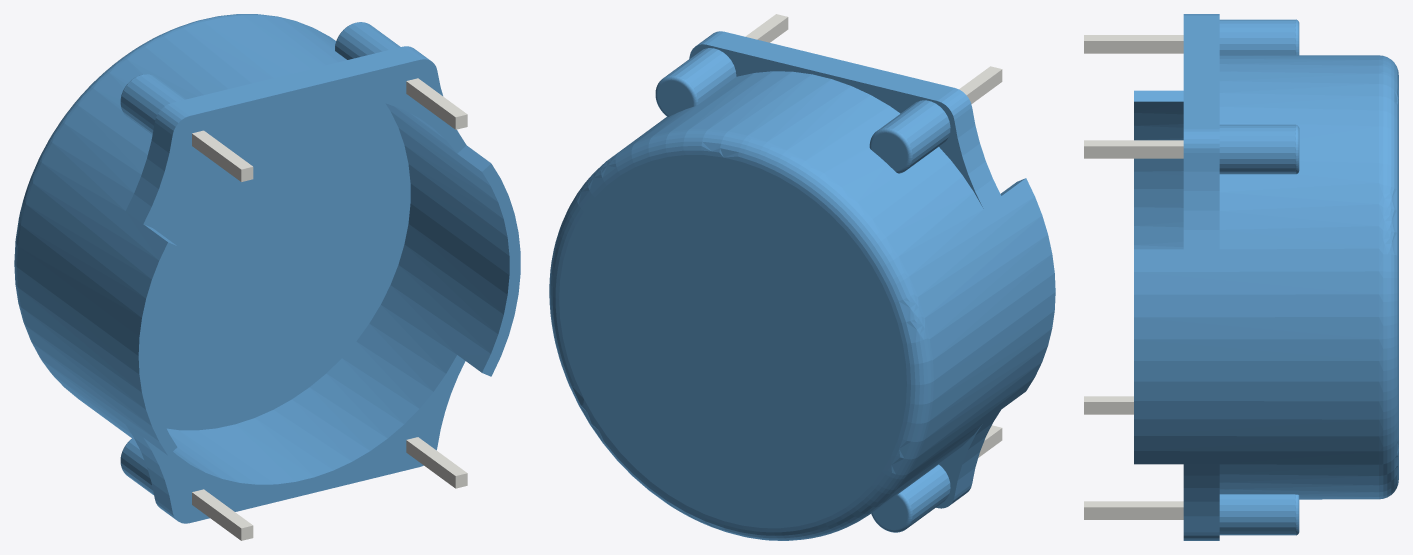
The model's file is Choke_EPCOS_B82722A.glb.
The picture shows the model from 3 angles, left to right: view 1: azimuth 30°, elevation 25°; view 2: azimuth 150°, elevation 25°; view 3: azimuth 270°, elevation 25°; orthographic projection.
Visible parts, largest first — view 1: Shape_IndexedFaceSet.036, Shape_IndexedFaceSet, Shape_IndexedFaceSet.026, Shape_IndexedFaceSet.031, Shape_IndexedFaceSet.027, Shape_IndexedFaceSet.034, Shape_IndexedFaceSet.013, Shape_IndexedFaceSet.001, Shape_IndexedFaceSet.020, Shape_IndexedFaceSet.023, Shape_IndexedFaceSet.025, Shape_IndexedFaceSet.017 (+10 smaller); view 2: Shape_IndexedFaceSet.035, Shape_IndexedFaceSet, Shape_IndexedFaceSet.025, Shape_IndexedFaceSet.034, Shape_IndexedFaceSet.016, Shape_IndexedFaceSet.020, Shape_IndexedFaceSet.023, Shape_IndexedFaceSet.017, Shape_IndexedFaceSet.005, Shape_IndexedFaceSet.003, Shape_IndexedFaceSet.019, Shape_IndexedFaceSet.022 (+2 smaller); view 3: Shape_IndexedFaceSet, Shape_IndexedFaceSet.025, Shape_IndexedFaceSet.026, Shape_IndexedFaceSet.034, Shape_IndexedFaceSet.017, Shape_IndexedFaceSet.015, Shape_IndexedFaceSet.008, Shape_IndexedFaceSet.020, Shape_IndexedFaceSet.011, Shape_IndexedFaceSet.043, Shape_IndexedFaceSet.048, Shape_IndexedFaceSet.052 (+6 smaller).
Boxes of the visible parts, <box> form: Shape_IndexedFaceSet.036: <box>149,98,410,430</box>; Shape_IndexedFaceSet: <box>17,15,346,455</box>; Shape_IndexedFaceSet.026: <box>167,103,509,484</box>; Shape_IndexedFaceSet.031: <box>143,59,466,227</box>; Shape_IndexedFaceSet.027: <box>144,355,465,523</box>; Shape_IndexedFaceSet.034: <box>172,46,419,115</box>; Shape_IndexedFaceSet.013: <box>482,163,520,376</box>; Shape_IndexedFaceSet.001: <box>138,242,177,455</box>; Shape_IndexedFaceSet.020: <box>121,74,185,135</box>; Shape_IndexedFaceSet.023: <box>126,122,172,223</box>; Shape_IndexedFaceSet.025: <box>14,14,312,385</box>; Shape_IndexedFaceSet.017: <box>335,22,400,59</box>; Shape_IndexedFaceSet.035: <box>559,155,906,528</box>; Shape_IndexedFaceSet: <box>621,71,1055,510</box>; Shape_IndexedFaceSet.025: <box>549,129,933,540</box>; Shape_IndexedFaceSet.034: <box>707,31,954,100</box>; Shape_IndexedFaceSet.016: <box>689,44,983,208</box>; Shape_IndexedFaceSet.020: <box>879,100,950,168</box>; Shape_IndexedFaceSet.023: <box>954,107,1001,208</box>; Shape_IndexedFaceSet.017: <box>664,48,736,103</box>; Shape_IndexedFaceSet.005: <box>901,464,950,527</box>; Shape_IndexedFaceSet.003: <box>954,410,1000,496</box>; Shape_IndexedFaceSet.019: <box>657,80,693,116</box>; Shape_IndexedFaceSet.022: <box>871,133,907,171</box>; Shape_IndexedFaceSet: <box>1134,55,1378,499</box>; Shape_IndexedFaceSet.025: <box>1379,55,1398,499</box>; Shape_IndexedFaceSet.026: <box>1134,101,1183,249</box>; Shape_IndexedFaceSet.034: <box>1183,16,1219,129</box>; Shape_IndexedFaceSet.017: <box>1219,124,1295,174</box>; Shape_IndexedFaceSet.015: <box>1183,153,1219,249</box>; Shape_IndexedFaceSet.008: <box>1219,494,1295,535</box>; Shape_IndexedFaceSet.020: <box>1219,19,1295,55</box>; Shape_IndexedFaceSet.011: <box>1183,464,1219,532</box>; Shape_IndexedFaceSet.043: <box>1084,507,1183,519</box>; Shape_IndexedFaceSet.048: <box>1084,41,1183,53</box>; Shape_IndexedFaceSet.052: <box>1084,146,1183,158</box>.
Size of the model in its own units: 8.77 by 8.94 by 6.22.
